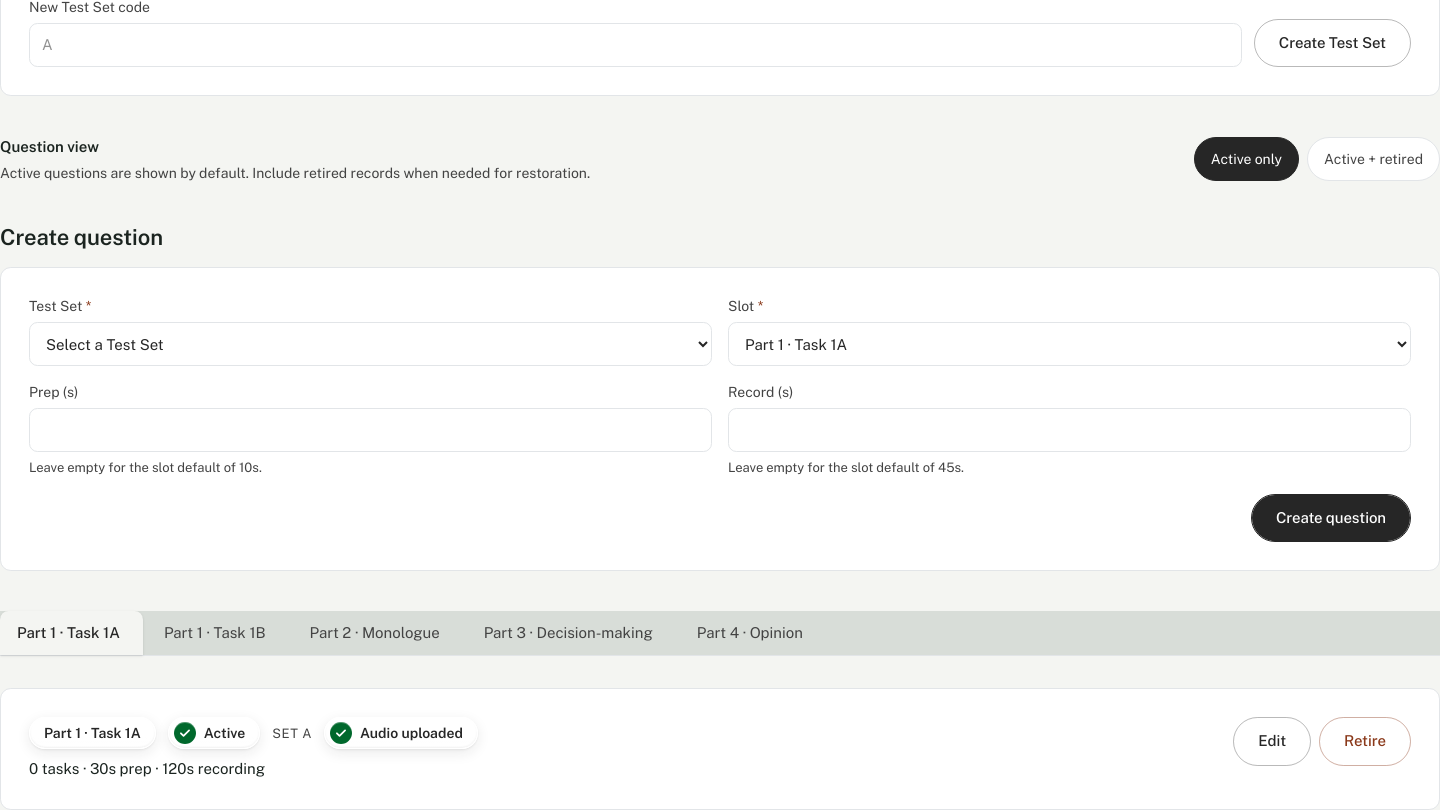
Scenario: AdminQuestionsPage edit mode › retires a Question with truthful retained-evidence feedback
The image size is (1440, 810).
(page scrolled)
Click the button "Retire" at (1365, 742), box [1319, 717, 1411, 766]
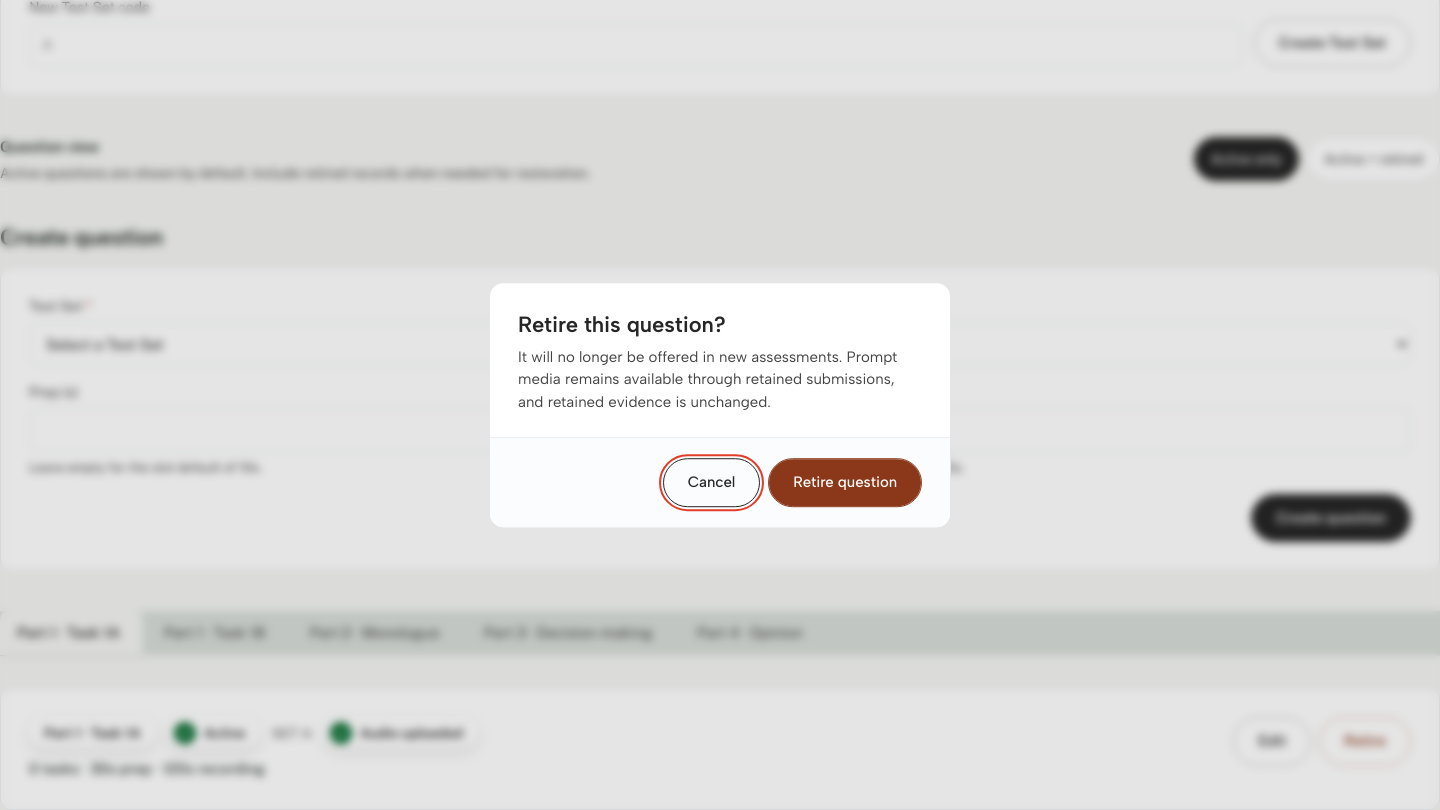
Result: the heading "Retire this question?" is shown at [518, 311, 726, 340]
Result: the text "Prompt media remains available through retained submissions" is shown at [518, 348, 897, 411]
Click the button "Retire question" at (845, 483), box [768, 458, 922, 507]
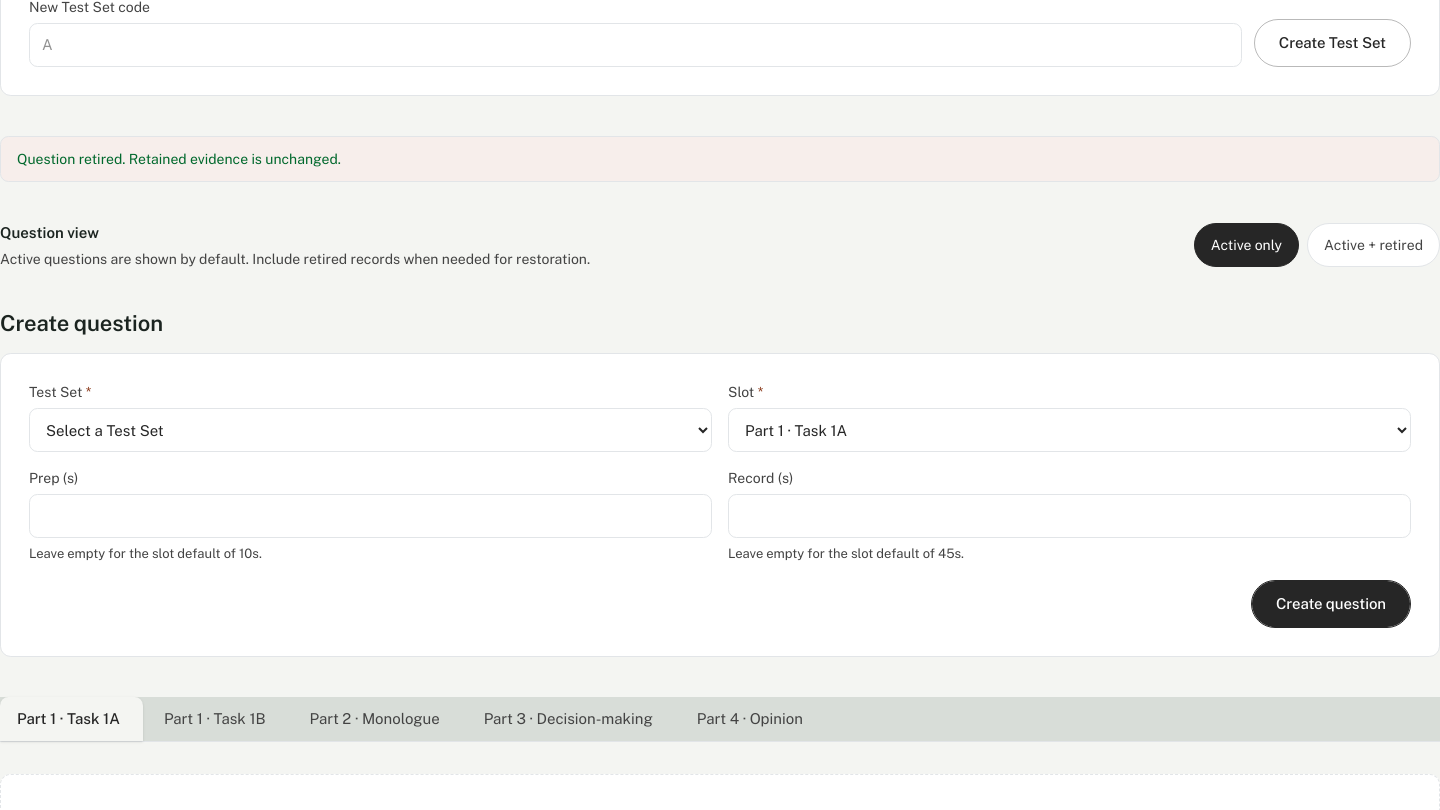
Result: the text "Question retired. Retained evidence is unchanged." is shown at [0, 136, 1439, 182]
